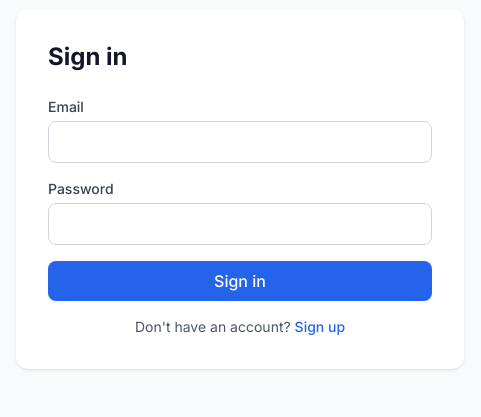
Test: LoginPage › shows an error message when the API returns an error
In the field labelled "Email": coordinates (240, 142) x1=48 y1=121 x2=432 y2=163, type "user@example.com"
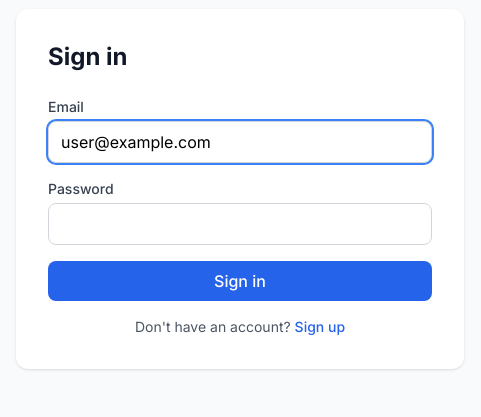
In the password field labelled "Password": coordinates (240, 224) x1=48 y1=203 x2=432 y2=245, type "wrongpass"
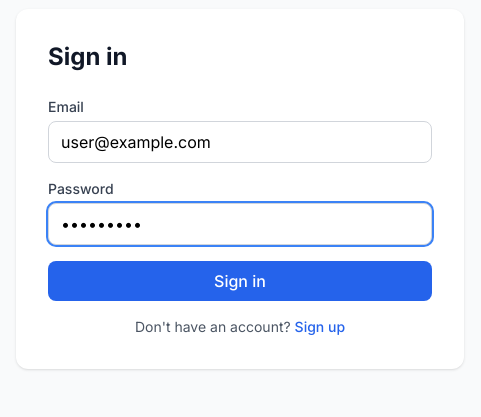
Submit the form "Email Password Sign in", box x1=48 y1=97 x2=432 y2=301
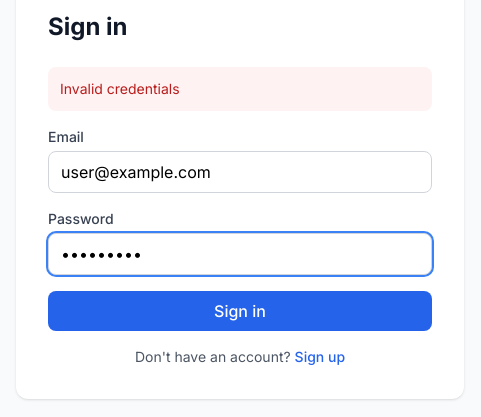
Expected: the text "Invalid credentials" is shown, x1=48 y1=67 x2=432 y2=111
